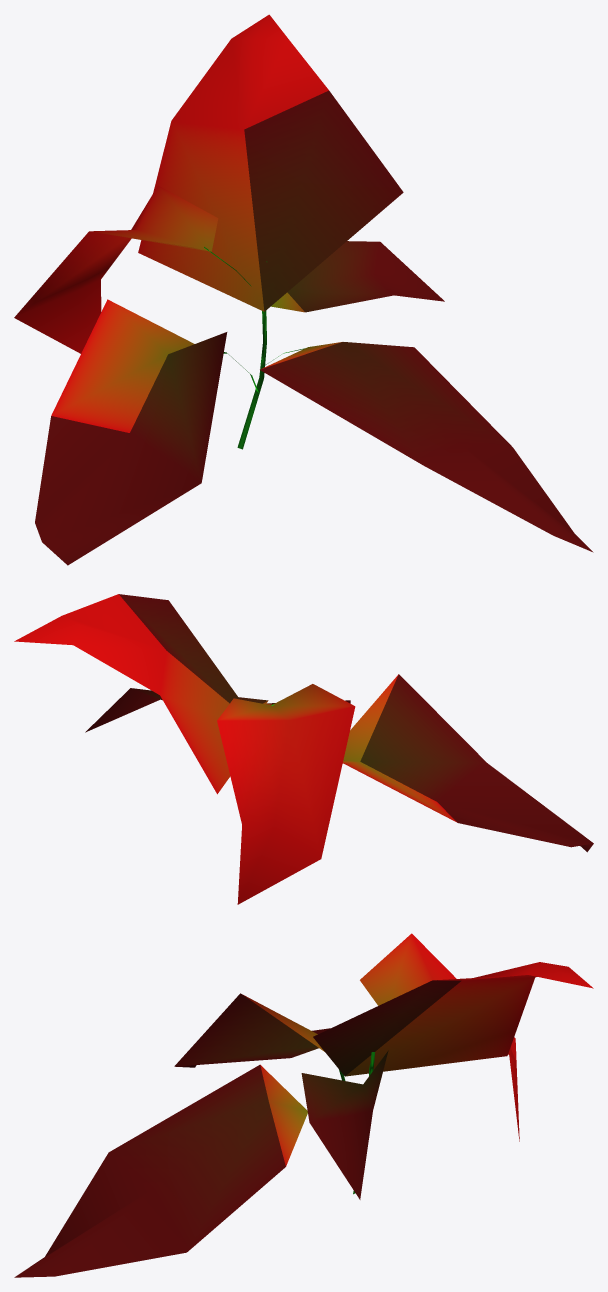
File: Var1_LOD2.fbx
The picture shows the model from 3 angles, top to bottom: view 1: azimuth 30°, elevation 25°; view 2: azimuth 150°, elevation 25°; view 3: azimuth 270°, elevation 25°; orthographic projection. The views are drawn at different scales.
Visible parts, largest first — view 1: _26d2_Var1_LOD2; view 2: _26d2_Var1_LOD2; view 3: _26d2_Var1_LOD2.
Part boxes in pixels (<box>): _26d2_Var1_LOD2: <box>14,14,593,565</box>; _26d2_Var1_LOD2: <box>14,594,593,904</box>; _26d2_Var1_LOD2: <box>14,933,593,1277</box>.
Size of the model in its own units: 123 by 76.8 by 138.
